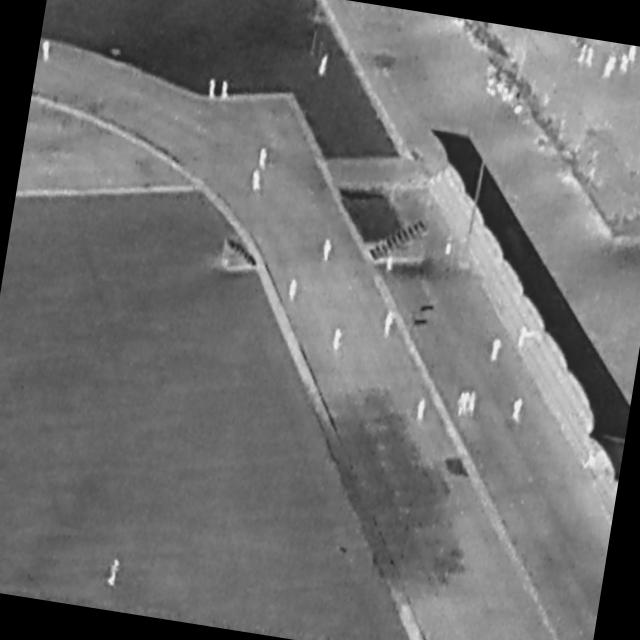person: (107, 559, 123, 590), (39, 40, 55, 66), (512, 398, 527, 425), (604, 55, 618, 82), (383, 312, 396, 341), (491, 337, 505, 363), (318, 53, 331, 79), (288, 279, 301, 305), (416, 399, 429, 425), (251, 170, 265, 194), (258, 147, 271, 172), (332, 329, 345, 354), (322, 239, 335, 264), (469, 391, 479, 417), (579, 44, 590, 67), (628, 46, 640, 67), (457, 392, 467, 417), (621, 54, 632, 76), (221, 82, 232, 103), (463, 392, 472, 417), (208, 80, 218, 102), (445, 235, 455, 257), (586, 47, 596, 69), (387, 251, 396, 272)
